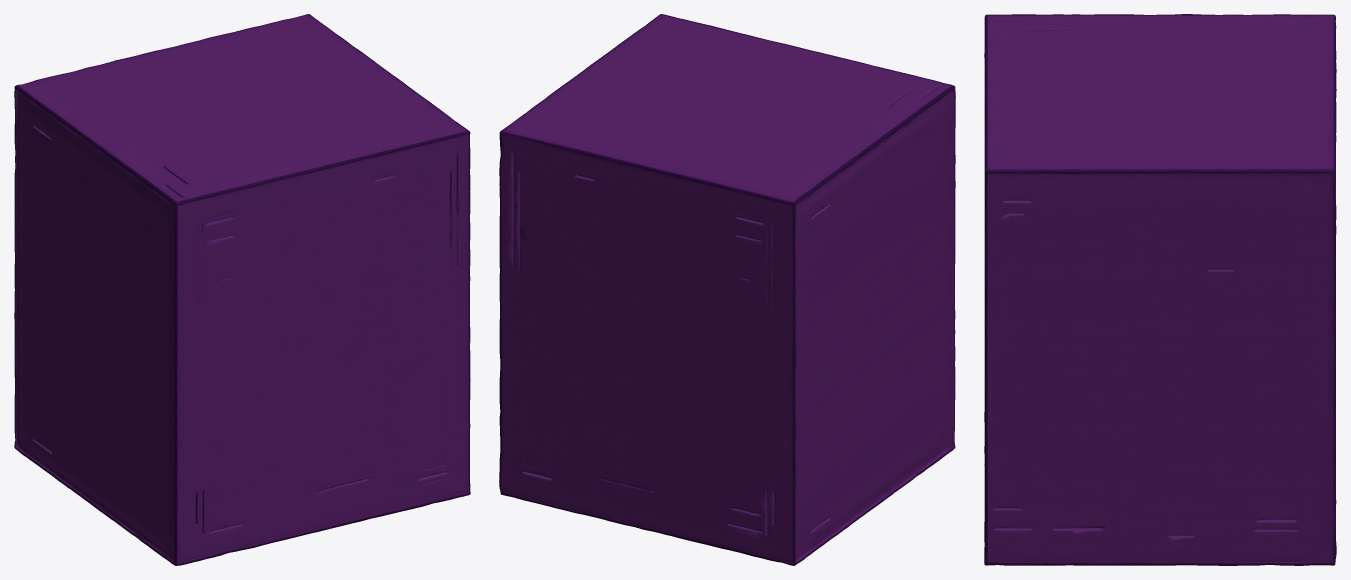
Rendered from cube_purple.glb.
3 views of the same model, side by side, from view 1: azimuth 30°, elevation 25°; view 2: azimuth 150°, elevation 25°; view 3: azimuth 270°, elevation 25° (orthographic). The views are drawn at different scales.
Parts seen in each view (by area): view 1: tripo_node_14281d13-bc04-4c2a-bd31-983c49f77182; view 2: tripo_node_14281d13-bc04-4c2a-bd31-983c49f77182; view 3: tripo_node_14281d13-bc04-4c2a-bd31-983c49f77182.
Boxes of the visible parts, x1=… form: tripo_node_14281d13-bc04-4c2a-bd31-983c49f77182: x1=14, y1=14, x2=470, y2=565; tripo_node_14281d13-bc04-4c2a-bd31-983c49f77182: x1=499, y1=14, x2=955, y2=565; tripo_node_14281d13-bc04-4c2a-bd31-983c49f77182: x1=984, y1=14, x2=1336, y2=565.
Bounding box in the file's own units: 0.8499 × 1 × 0.8069.
1 material, 1 textured.
